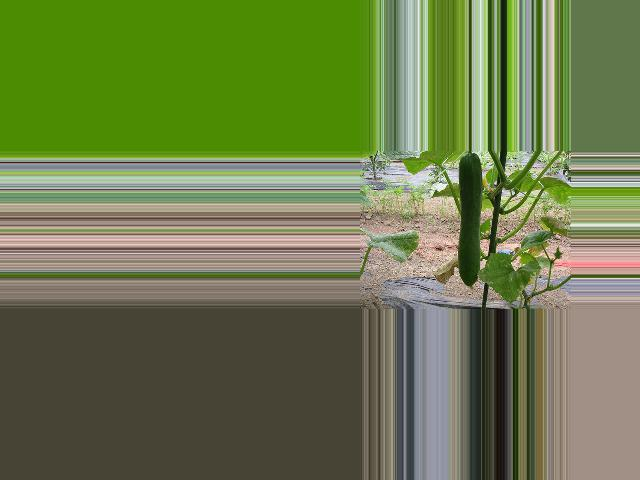cucumber: (457, 153, 482, 290)
